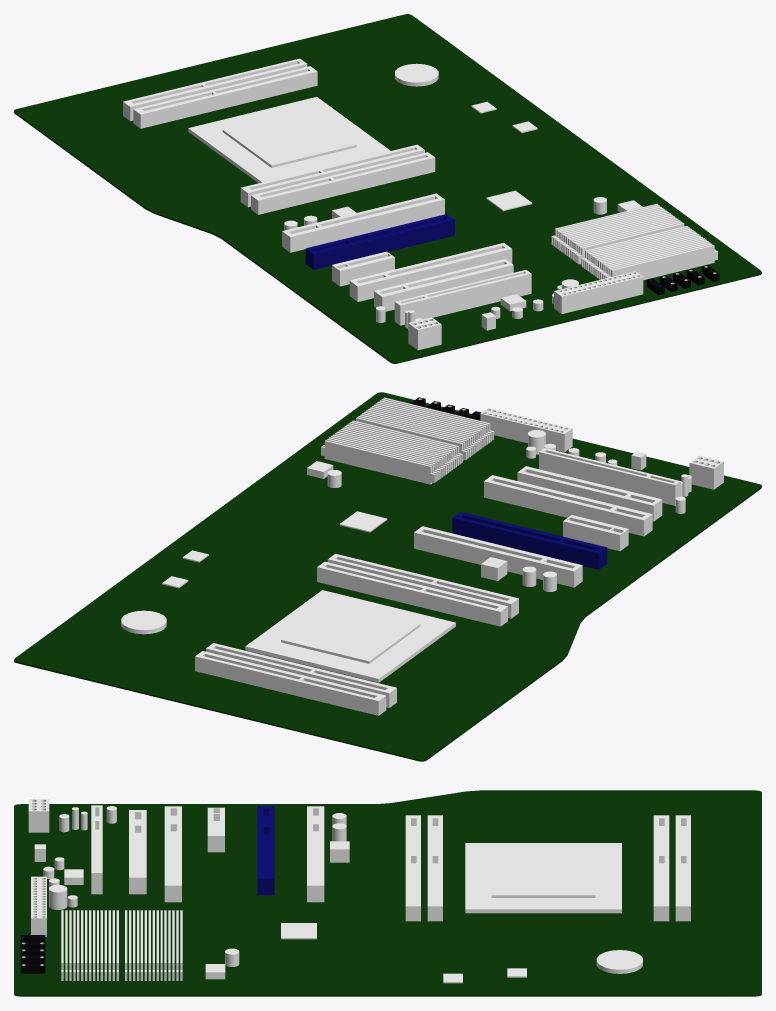
The model's file is motherboard.FBX.
The picture shows the model from 3 angles, top to bottom: view 1: azimuth 30°, elevation 25°; view 2: azimuth 150°, elevation 25°; view 3: azimuth 270°, elevation 25°; orthographic projection. The views are drawn at different scales.
Visible parts, largest first — view 1: Box018; view 2: Box018; view 3: Box018.
Boxes of the visible parts, <box> form: Box018: <box>14,14,761,363</box>; Box018: <box>14,392,761,761</box>; Box018: <box>14,790,761,996</box>.
Size of the model in its own units: 74.03 by 4.68 by 114.
